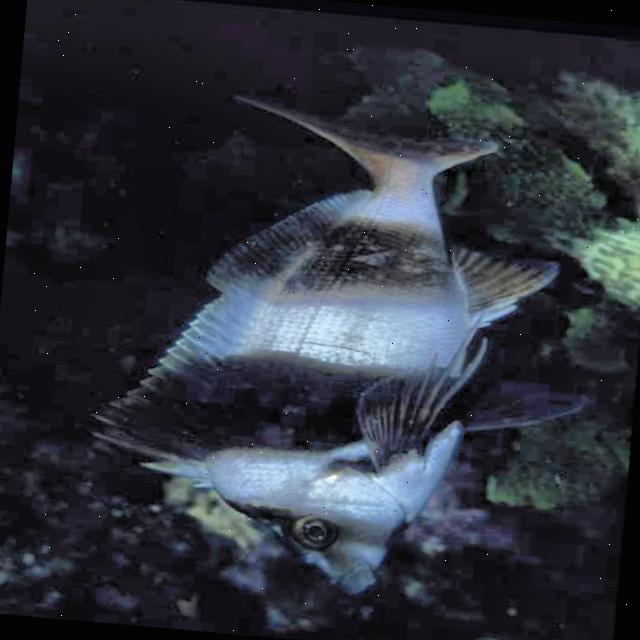fish: (74, 81, 612, 614)
